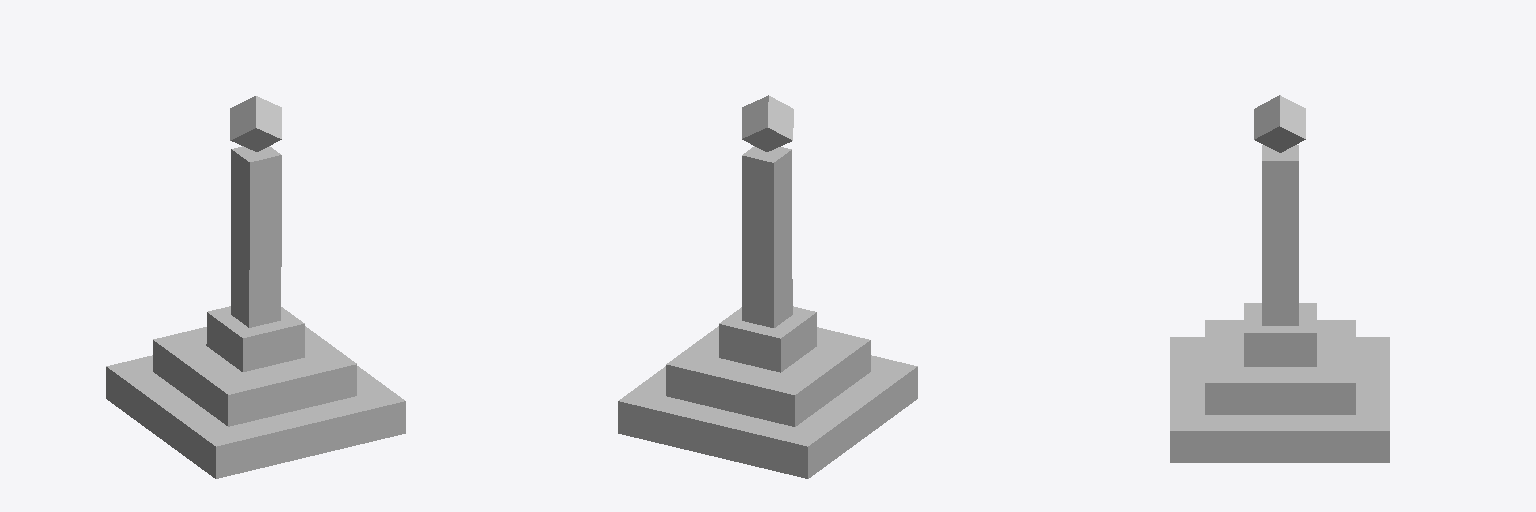
File: beacon.obj
3 views of the same model, side by side, from view 1: azimuth 30°, elevation 25°; view 2: azimuth 150°, elevation 25°; view 3: azimuth 270°, elevation 25° (orthographic).
Visible parts, largest first — view 1: Cube.006, Cube.005, Cube.003, Cube.004, Cube.002; view 2: Cube.006, Cube.005, Cube.003, Cube.004, Cube.002; view 3: Cube.006, Cube.005, Cube.003, Cube.004, Cube.002.
Part boxes in pixels (left/top/right/bottom): Cube.006: left=106, top=355, right=405, bottom=478; Cube.005: left=153, top=326, right=356, bottom=426; Cube.003: left=231, top=146, right=281, bottom=327; Cube.004: left=206, top=306, right=304, bottom=371; Cube.002: left=230, top=96, right=281, bottom=151; Cube.006: left=618, top=355, right=917, bottom=478; Cube.005: left=666, top=326, right=870, bottom=426; Cube.003: left=742, top=146, right=792, bottom=327; Cube.004: left=719, top=306, right=816, bottom=372; Cube.002: left=742, top=95, right=793, bottom=151; Cube.006: left=1170, top=337, right=1389, bottom=462; Cube.005: left=1205, top=320, right=1355, bottom=414; Cube.003: left=1262, top=145, right=1298, bottom=325; Cube.004: left=1244, top=303, right=1316, bottom=366; Cube.002: left=1254, top=95, right=1305, bottom=152.
Bounding box in the file's own units: 5.98 × 9.66 × 5.98.